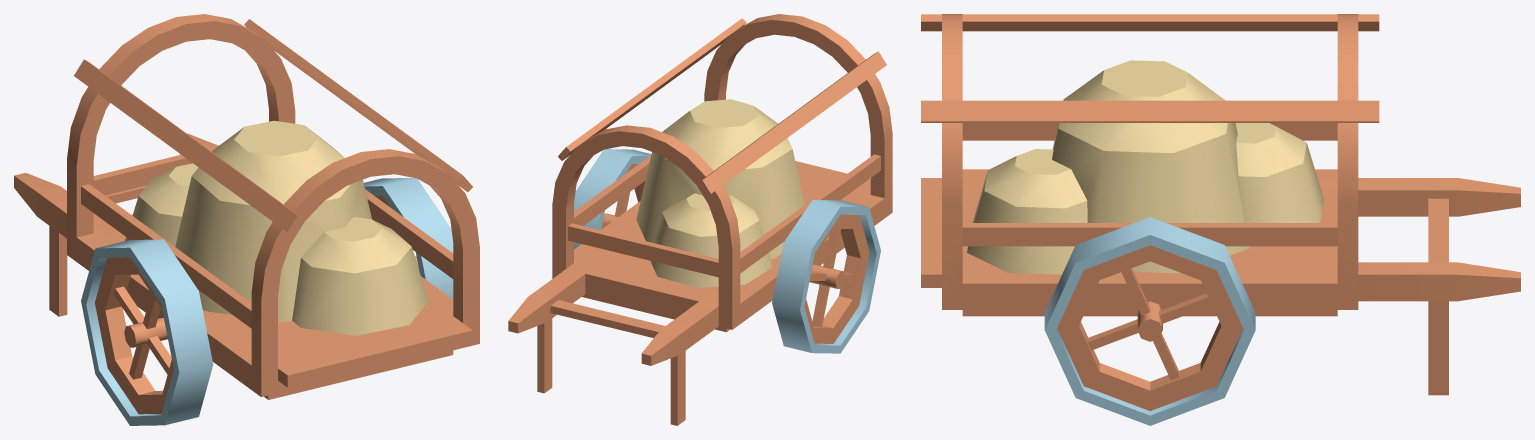
File: cartHigh.dae
3 views of the same model, side by side, from view 1: azimuth 30°, elevation 25°; view 2: azimuth 150°, elevation 25°; view 3: azimuth 270°, elevation 25° (orthographic). The views are drawn at different scales.
Visible parts, largest first — view 1: cartHigh, hay, wheel (×2); view 2: cartHigh, hay, wheel (×2); view 3: cartHigh, hay, wheel.
Boxes of the visible parts, x1=… form: cartHigh: x1=14, y1=14, x2=479, y2=399; hay: x1=125, y1=120, x2=428, y2=335; wheel (×2): x1=81, y1=178, x2=453, y2=425; cartHigh: x1=508, y1=14, x2=892, y2=425; hay: x1=636, y1=99, x2=804, y2=288; wheel (×2): x1=574, y1=149, x2=880, y2=353; cartHigh: x1=921, y1=14, x2=1520, y2=395; hay: x1=967, y1=60, x2=1323, y2=274; wheel: x1=1044, y1=217, x2=1255, y2=425.
Bounding box in the file's own units: 0.8525 × 0.8605 × 1.44.
